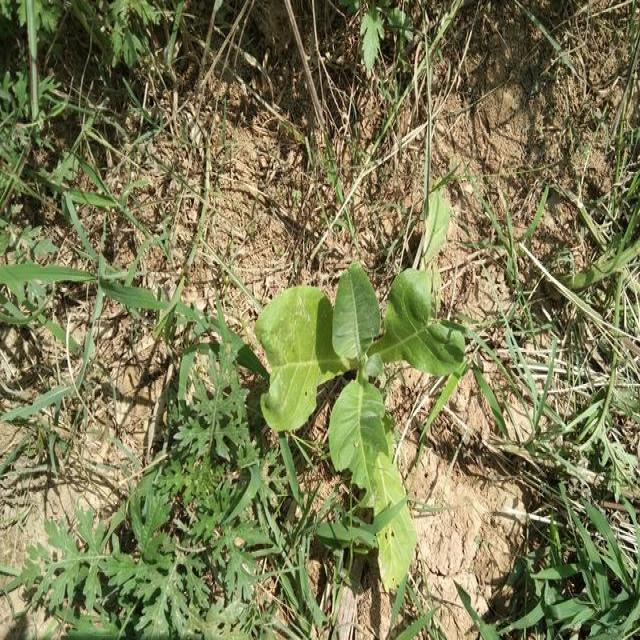crop: (260, 276, 458, 571)
